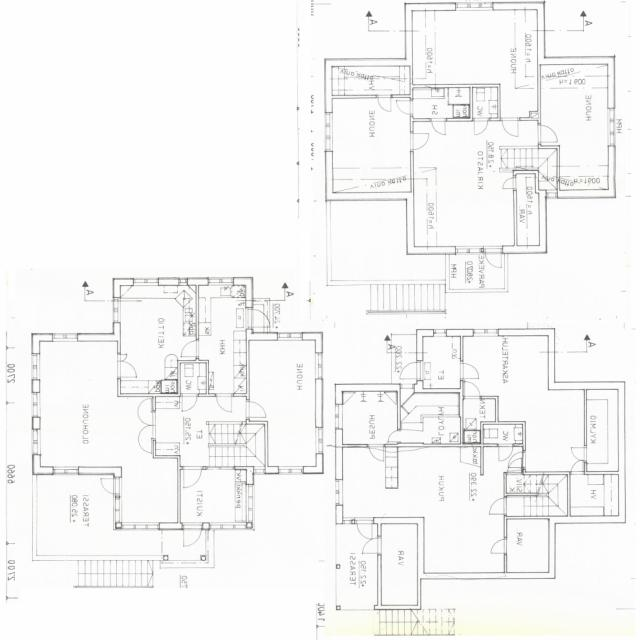door: (246, 308, 275, 330), (184, 523, 204, 550), (355, 516, 373, 542), (96, 478, 122, 496), (485, 246, 502, 272), (399, 362, 424, 379), (359, 537, 382, 555), (247, 401, 267, 419), (184, 467, 202, 487), (506, 451, 527, 468), (117, 361, 137, 378), (537, 125, 557, 142), (488, 498, 507, 514), (488, 538, 507, 554), (466, 380, 482, 399), (181, 342, 200, 358), (410, 134, 429, 150), (502, 118, 518, 137), (570, 446, 588, 462), (498, 444, 513, 463), (369, 444, 384, 463), (474, 118, 489, 136), (395, 101, 412, 116), (460, 364, 478, 378), (182, 393, 196, 411), (431, 118, 445, 136), (508, 459, 522, 476), (571, 459, 584, 476), (217, 393, 230, 410), (140, 412, 156, 425), (140, 425, 156, 438), (378, 95, 391, 111), (384, 430, 399, 443), (502, 177, 516, 189), (117, 355, 127, 362)
